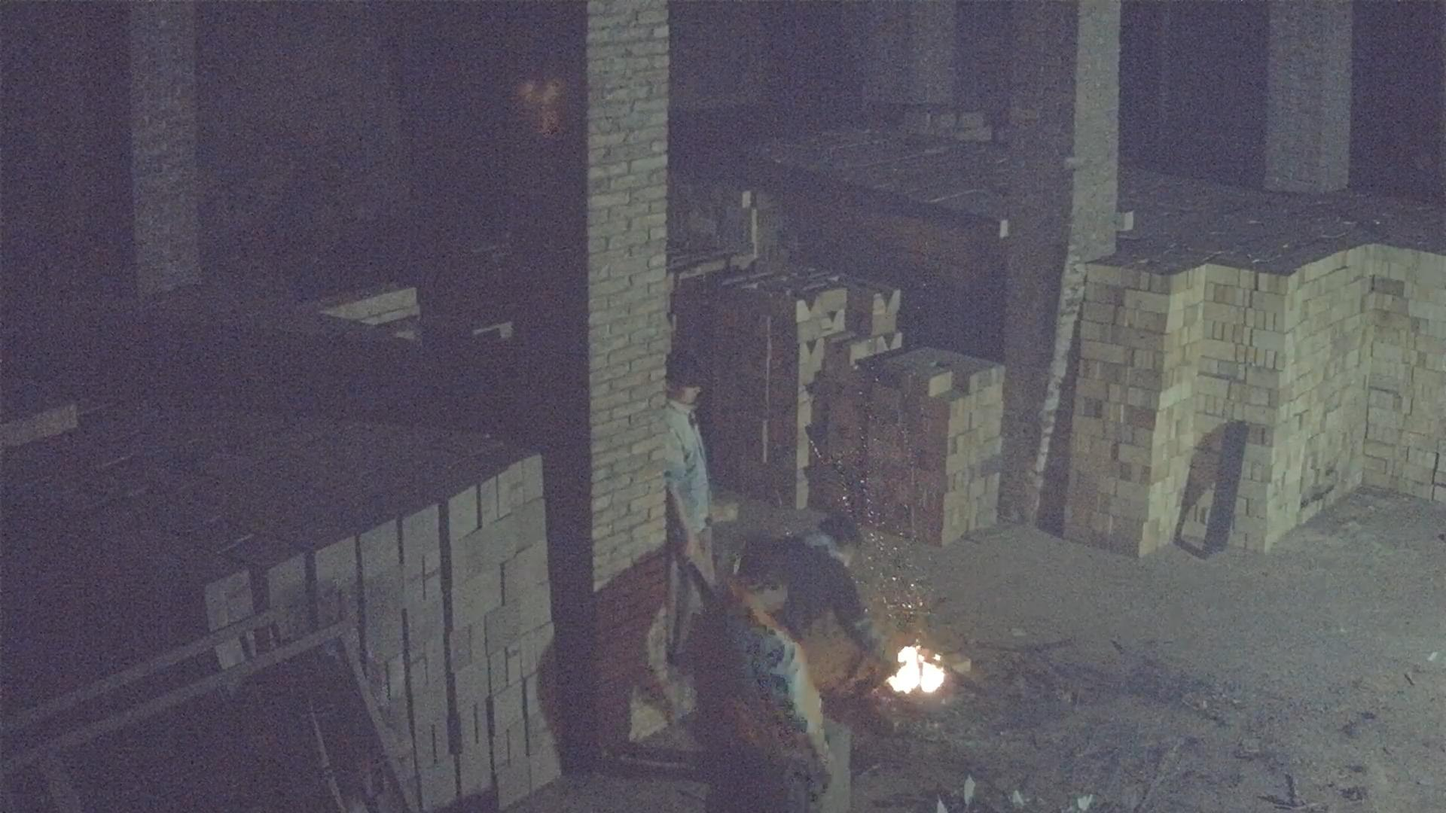fire: (886, 645, 945, 694)
